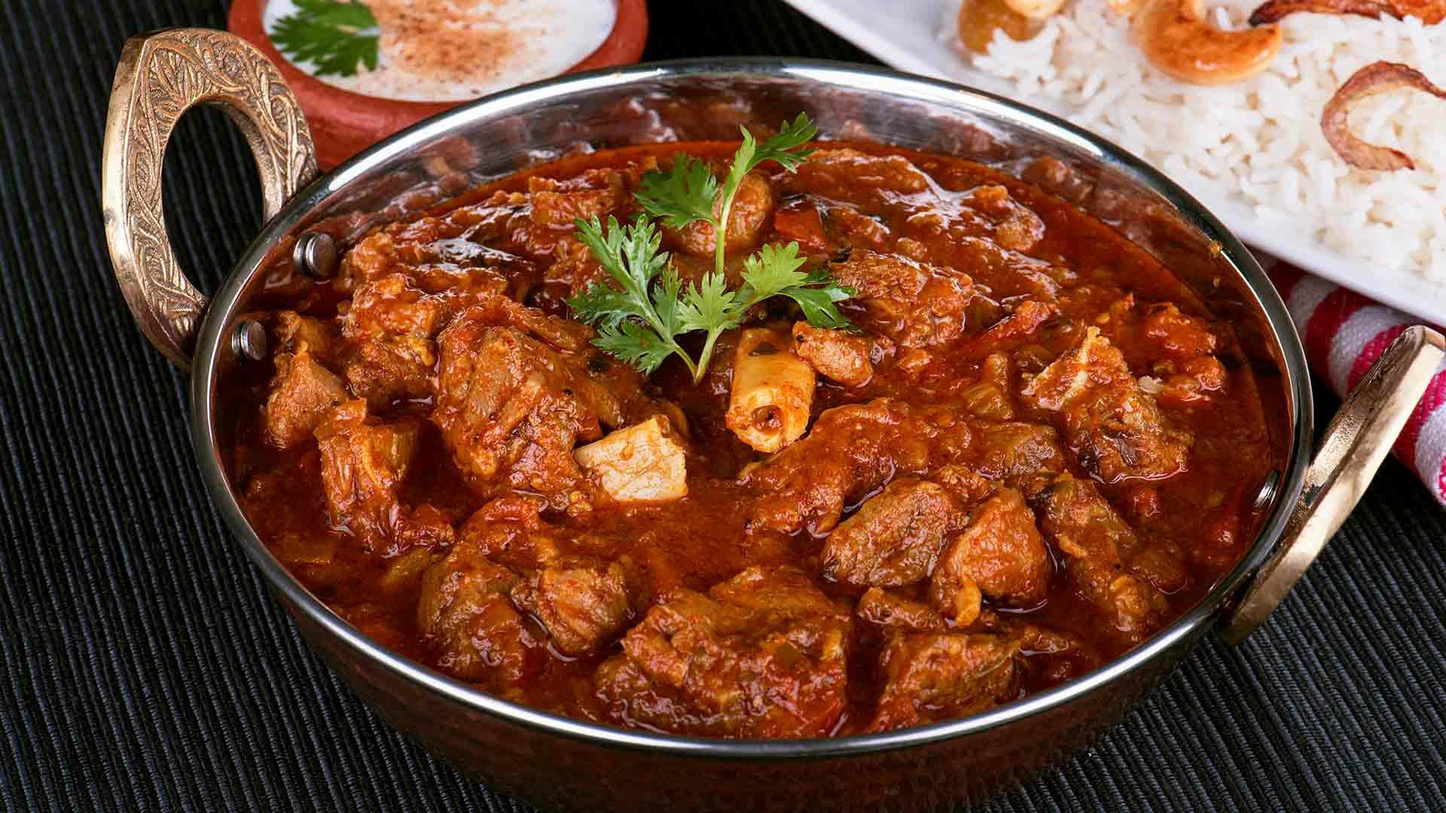MuttonCurry: (251, 134, 1226, 737)
